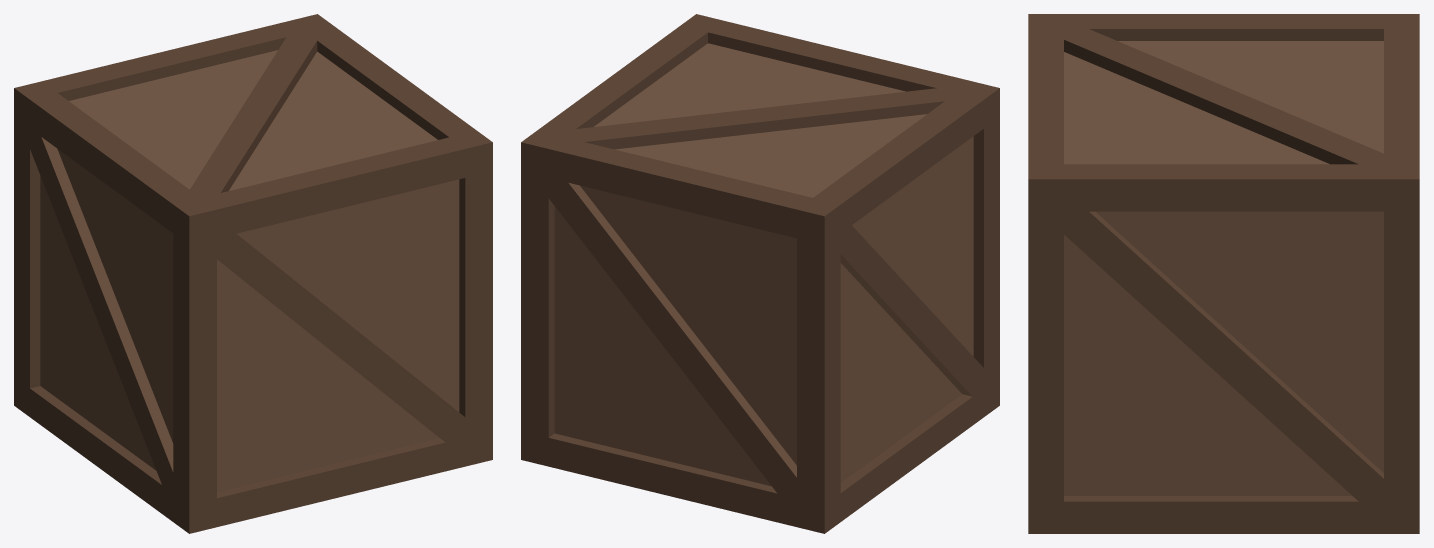
File: SPW_Medieval_Box_01.glb
The picture shows the model from 3 angles, left to right: view 1: azimuth 30°, elevation 25°; view 2: azimuth 150°, elevation 25°; view 3: azimuth 270°, elevation 25°; orthographic projection. The views are drawn at different scales.
Visible parts, largest first — view 1: SPW_Medieval_Box_01; view 2: SPW_Medieval_Box_01; view 3: SPW_Medieval_Box_01.
Boxes of the visible parts, x1=… form: SPW_Medieval_Box_01: x1=14, y1=14, x2=492, y2=533; SPW_Medieval_Box_01: x1=521, y1=14, x2=999, y2=533; SPW_Medieval_Box_01: x1=1028, y1=14, x2=1419, y2=533.
Size of the model in its own units: 0.4125 by 0.4125 by 0.4125.
Materials: 1 (1 with a texture image).
